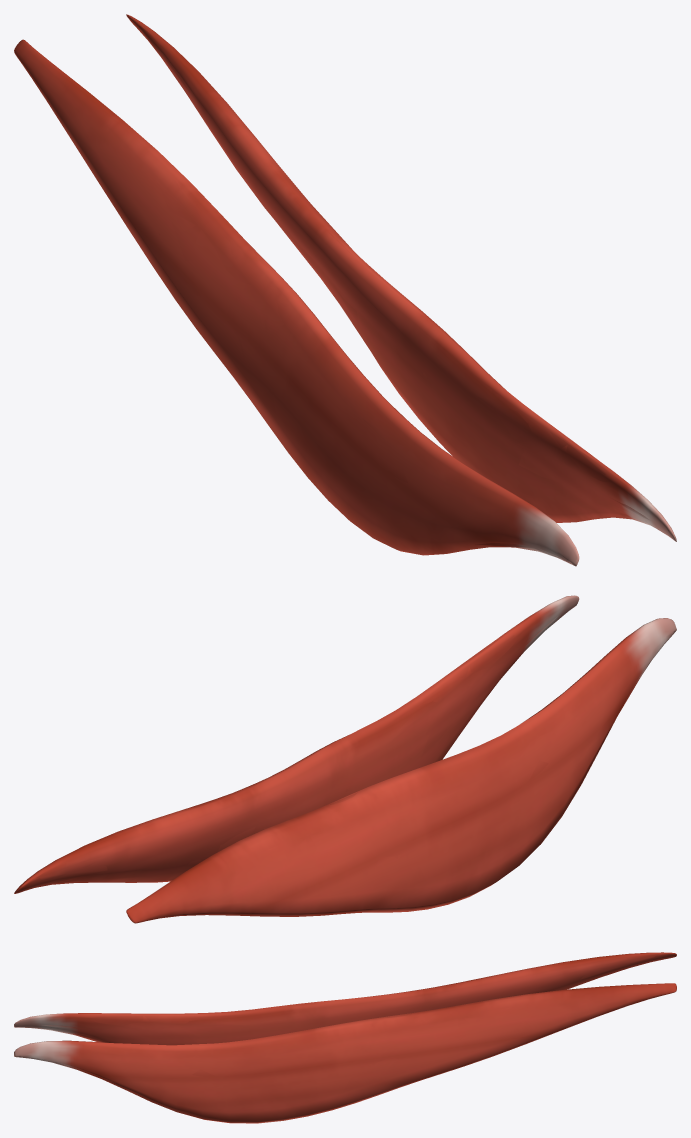
Rendered from Semisspinalis Capitis.fbx.
The picture shows the model from 3 angles, top to bottom: view 1: azimuth 30°, elevation 25°; view 2: azimuth 150°, elevation 25°; view 3: azimuth 270°, elevation 25°; orthographic projection. The views are drawn at different scales.
Parts seen in each view (by area): view 1: Semisspinalis Capitis, Semisspinalis Capitis low; view 2: Semisspinalis Capitis, Semisspinalis Capitis low; view 3: Semisspinalis Capitis, Semisspinalis Capitis low.
Part boxes in pixels (x1,y1,x2,y2): Semisspinalis Capitis: (14,14,676,566); Semisspinalis Capitis low: (37,21,665,558); Semisspinalis Capitis: (14,595,676,923); Semisspinalis Capitis low: (27,613,667,917); Semisspinalis Capitis: (14,952,676,1123); Semisspinalis Capitis low: (28,953,667,1092).
Size of the model in its own units: 6.07 by 8.47 by 37.5.
Materials: 1 (1 with a texture image).
